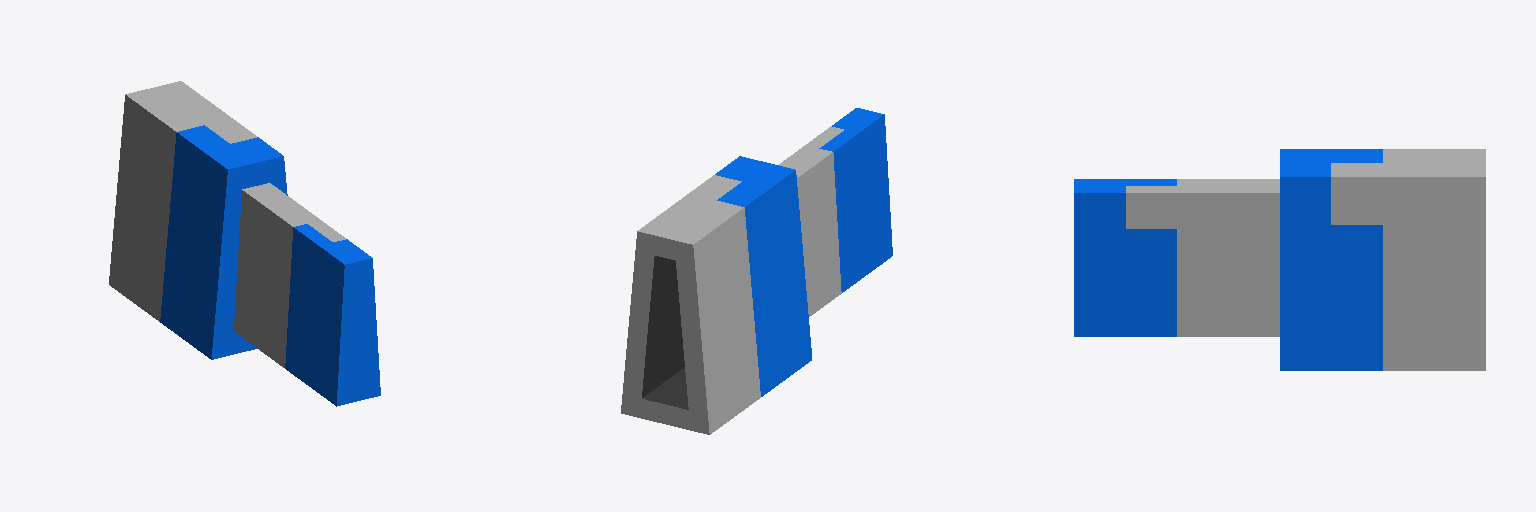
The model's file is surveyorCannonBarrel.obj.
3 renders of one model, left to right at view 1: azimuth 30°, elevation 25°; view 2: azimuth 150°, elevation 25°; view 3: azimuth 270°, elevation 25°, orthographic.
Bounding box in the file's own units: 0.2 × 0.4 × 0.8.